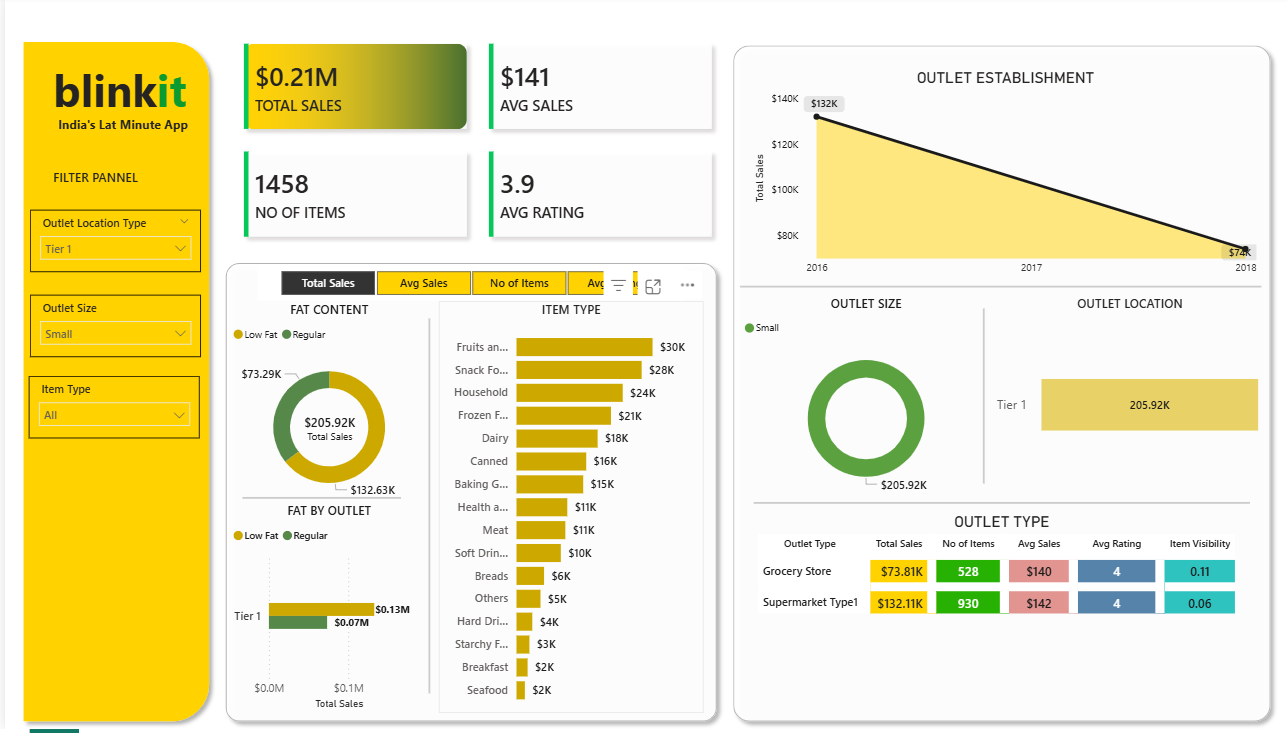

Layout of this report page (visuals, bound fields, positions):
{"tool":"powerbi","page":{"name":"Page 1","canvas":[1400,800],"ordinal":0},"visuals":[{"type":"shape","box":[10.9,40.9,220.9,759.4],"z":0},{"type":"textbox","box":[47.7,125.4,162.2,32.7],"z":1000},{"type":"textbox","box":[47.7,64.1,165,77.7],"z":2000},{"type":"cardVisual","fields":{"Data":["BlinkIT Grocery Data.Total Sales","BlinkIT Grocery Data.Avg Sales","BlinkIT Grocery Data.No of Items","BlinkIT Grocery Data.Avg Rating"]},"box":[231.8,23.2,569.9,269.9],"z":3000},{"type":"shape","box":[231.8,282.2,553.5,518.1],"z":4000},{"type":"slicer","fields":{"Values":["Metrics.Metrics"]},"box":[275.4,293.1,464.9,39.5],"z":5000},{"type":"donutChart","title":"FAT CONTENT","fields":{"Y":["BlinkIT Grocery Data.Total Sales"],"Category":["BlinkIT Grocery Data.Item Fat Content"]},"box":[244,332.7,219.5,230.4],"z":6000},{"type":"cardVisual","fields":{"Data":["BlinkIT Grocery Data.Total Sales"]},"box":[276.8,439,155.4,64.1],"z":7000},{"type":"clusteredBarChart","title":"FAT BY OUTLET","fields":{"Y":["BlinkIT Grocery Data.Total Sales"],"Category":["BlinkIT Grocery Data.Outlet Location Type"],"Series":["BlinkIT Grocery Data.Item Fat Content"]},"box":[244,552.2,219.5,230.4],"z":8000},{"type":"shape","box":[259,531.7,173.1,31.4],"z":9000},{"type":"shape","box":[376.3,351.7,173.1,409],"z":10000},{"type":"barChart","title":"ITEM TYPE","fields":{"Y":["BlinkIT Grocery Data.Total Sales"],"Category":["BlinkIT Grocery Data.Item Type"]},"box":[473.1,332.7,289,449.9],"z":11000},{"type":"shape","box":[785.3,45,604,755.3],"z":12000},{"type":"lineChart","title":"OUTLET ESTABLISHMENT","fields":{"Y":["BlinkIT Grocery Data.Total Sales"],"Category":["BlinkIT Grocery Data.Outlet Establishment Year"]},"box":[812.5,79.1,557.6,234.5],"z":13000},{"type":"shape","box":[801.6,301.3,568.5,31.4],"z":14000},{"type":"donutChart","title":"OUTLET SIZE","fields":{"Y":["BlinkIT Grocery Data.Total Sales"],"Category":["BlinkIT Grocery Data.Outlet Size"]},"box":[801.6,325.8,275.4,225],"z":15000},{"type":"shape","box":[1048.4,340.8,38.2,190.9],"z":16000},{"type":"funnel","title":"OUTLET LOCATION","fields":{"Y":["Sum(BlinkIT Grocery Data.Sales)"],"Category":["BlinkIT Grocery Data.Outlet Location Type"]},"box":[1077,325.8,299.9,222.2],"z":17000},{"type":"pivotTable","title":"OUTLET TYPE","fields":{"Rows":["BlinkIT Grocery Data.Outlet Type"],"Values":["BlinkIT Grocery Data.Total Sales","BlinkIT Grocery Data.No of Items","BlinkIT Grocery Data.Avg Sales","BlinkIT Grocery Data.Avg Rating","Avg(BlinkIT Grocery Data.Item Visibility)"]},"box":[816.6,563.1,541.2,216.8],"z":18000},{"type":"shape","box":[816.6,537.2,541.2,31.4],"z":19000},{"type":"slicer","title":"FILTER PANNEL","fields":{"Values":["BlinkIT Grocery Data.Outlet Location Type"]},"box":[27.3,233.1,186.8,68.2],"z":20000},{"type":"slicer","fields":{"Values":["BlinkIT Grocery Data.Outlet Size"]},"box":[27.3,325.8,186.8,68.2],"z":21000},{"type":"slicer","fields":{"Values":["BlinkIT Grocery Data.Item Type"]},"box":[25.9,414.5,186.8,68.2],"z":22000},{"type":"textbox","box":[47.7,184.1,166.3,27.3],"z":23000}]}

Visuals, with their boxes in screenshot pixels (x1, y1, x2, y2), scaled from the page's 1400x800 canvas onto the 1287x733 screenshot:
shape: 10, 37, 213, 732
textbox: 44, 115, 193, 145
textbox: 44, 59, 196, 130
cardVisual - BlinkIT Grocery Data.Total Sales x BlinkIT Grocery Data.Avg Sales: 213, 21, 737, 269
shape: 213, 259, 722, 732
slicer - Metrics.Metrics: 253, 269, 681, 305
"FAT CONTENT" donutChart: 224, 305, 426, 516
cardVisual - BlinkIT Grocery Data.Total Sales: 254, 402, 397, 461
"FAT BY OUTLET" clusteredBarChart: 224, 506, 426, 717
shape: 238, 487, 397, 516
shape: 346, 322, 505, 697
"ITEM TYPE" barChart: 435, 305, 701, 717
shape: 722, 41, 1277, 732
"OUTLET ESTABLISHMENT" lineChart: 747, 72, 1260, 287
shape: 737, 276, 1260, 305
"OUTLET SIZE" donutChart: 737, 299, 990, 505
shape: 964, 312, 999, 487
"OUTLET LOCATION" funnel: 990, 299, 1266, 502
"OUTLET TYPE" pivotTable: 751, 516, 1248, 715
shape: 751, 492, 1248, 521
"FILTER PANNEL" slicer: 25, 214, 197, 276
slicer - BlinkIT Grocery Data.Outlet Size: 25, 299, 197, 361
slicer - BlinkIT Grocery Data.Item Type: 24, 380, 196, 442
textbox: 44, 169, 197, 194
